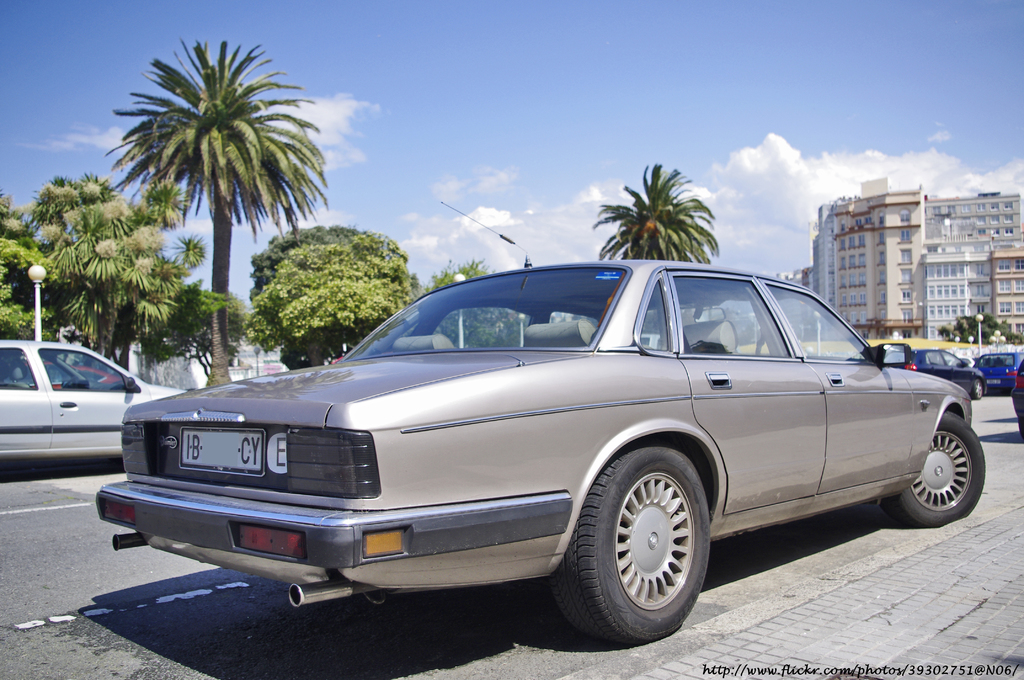Car: (0, 201, 1023, 644)
